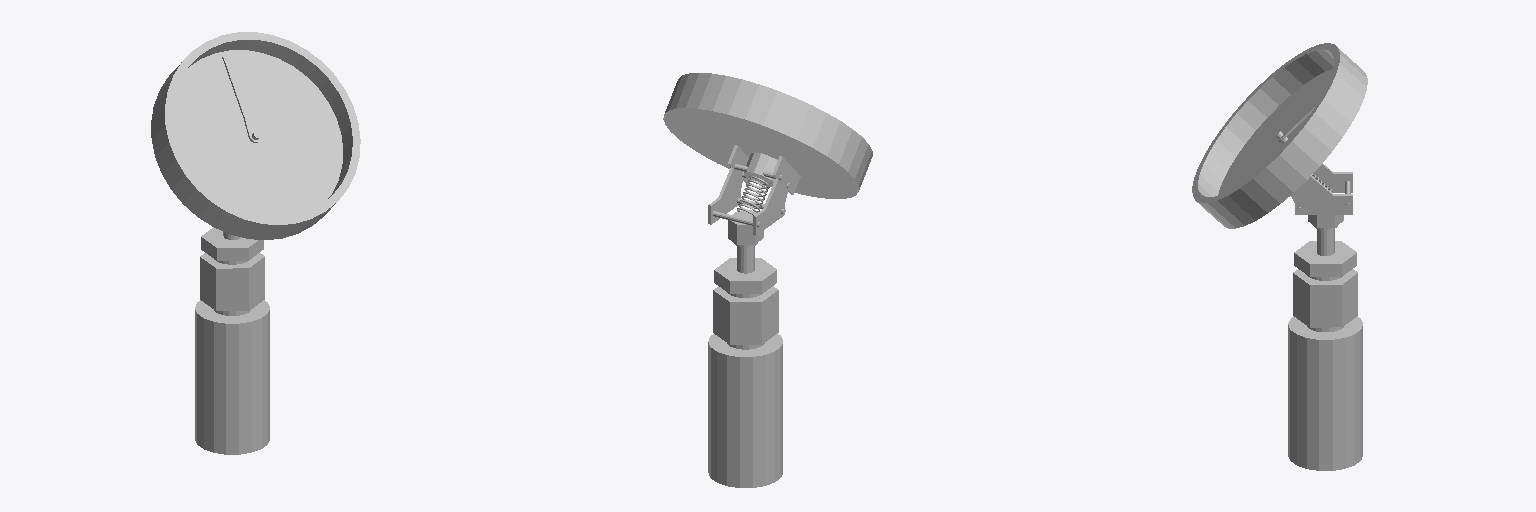
File: meter.obj
3 views of the same model, side by side, from view 1: azimuth 30°, elevation 25°; view 2: azimuth 150°, elevation 25°; view 3: azimuth 270°, elevation 25° (orthographic).
Bounding box in the file's own units: 119 × 250 × 99.78.